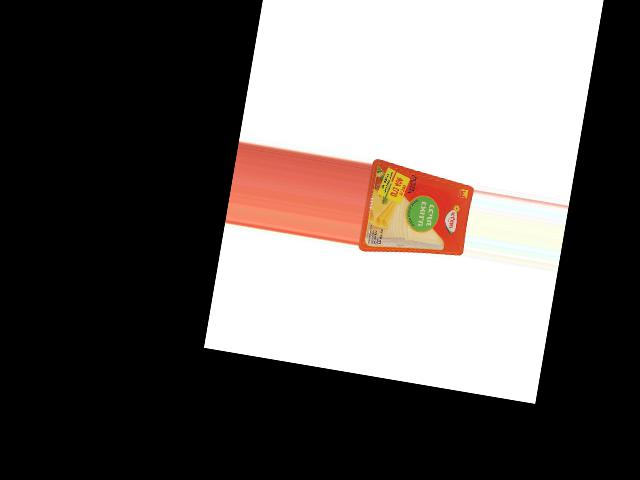cheese: (357, 157, 475, 267)
